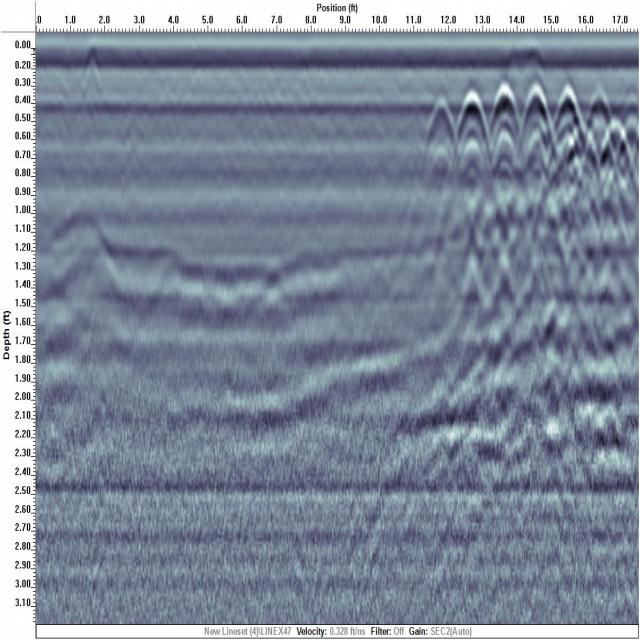hyperbola: (483, 71, 525, 156), (450, 80, 492, 164), (516, 74, 556, 149), (549, 76, 585, 152)
